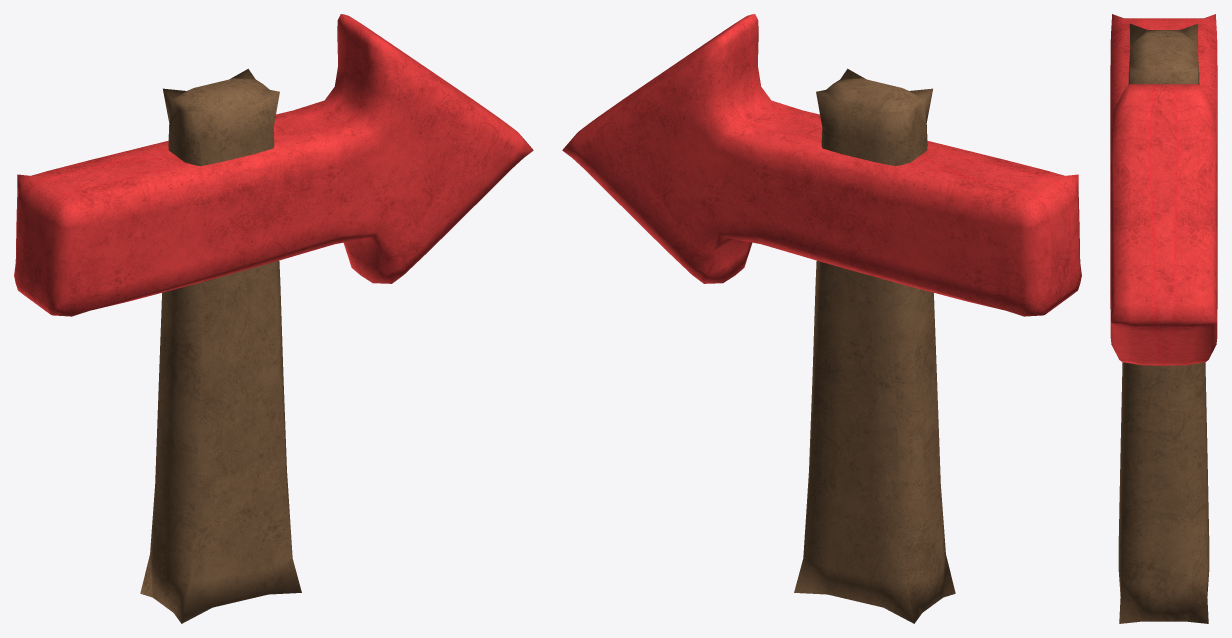
The model's file is arrow.glb.
3 renders of one model, left to right at view 1: azimuth 30°, elevation 25°; view 2: azimuth 150°, elevation 25°; view 3: azimuth 270°, elevation 25°, orthographic. The views are drawn at different scales.
Parts seen in each view (by area): view 1: Box001; view 2: Box001; view 3: Box001.
Boxes of the visible parts, x1=… form: Box001: x1=14, y1=14, x2=533, y2=623; Box001: x1=562, y1=14, x2=1081, y2=623; Box001: x1=1110, y1=14, x2=1217, y2=623.
Bounding box in the file's own units: 0.5339 × 0.5726 × 0.0955.
1 material, 1 textured.
